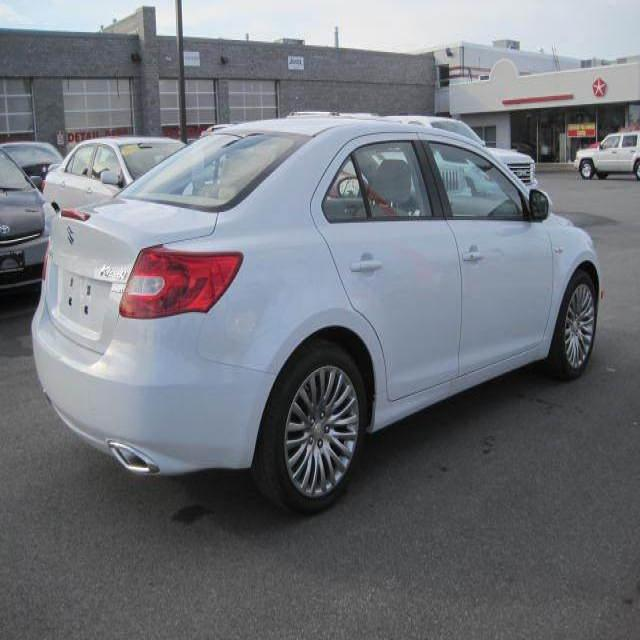Car: (31, 104, 602, 516)
